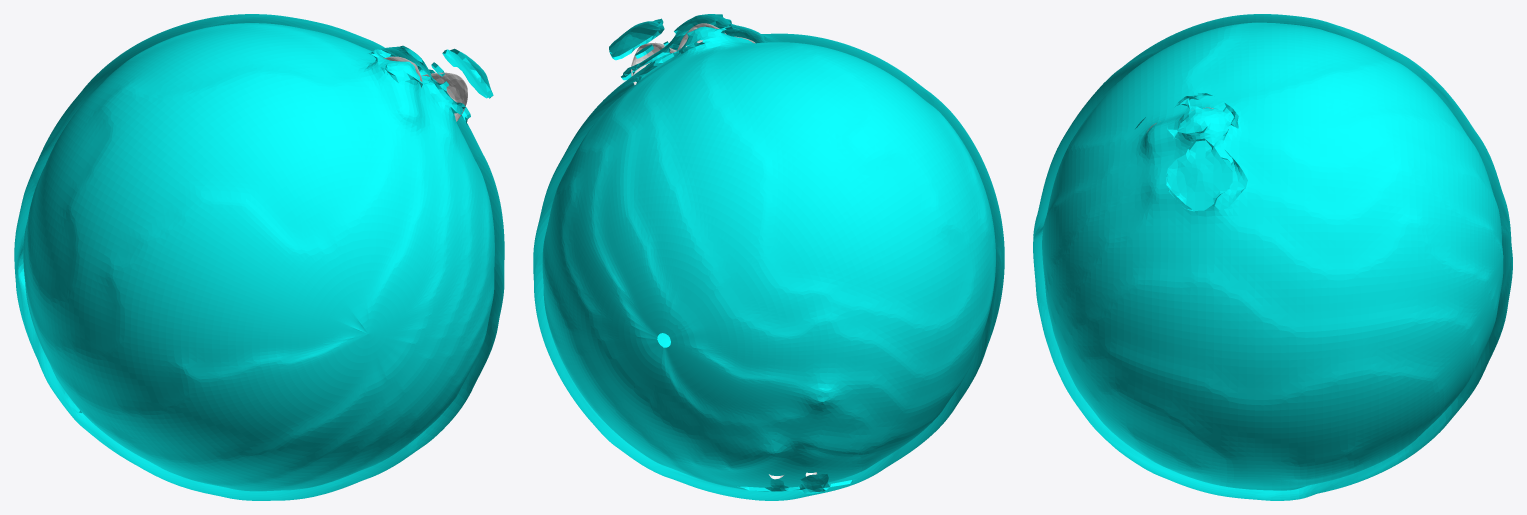
The picture shows the model from 3 angles, left to right: view 1: azimuth 30°, elevation 25°; view 2: azimuth 150°, elevation 25°; view 3: azimuth 270°, elevation 25°; orthographic projection. The views are drawn at different scales.
Visible parts, largest first — view 1: Renderer Node; view 2: Renderer Node; view 3: Renderer Node.
Boxes of the visible parts, x1,y1,x2,y2 form: Renderer Node: (14,14,504,500); Renderer Node: (533,14,1004,500); Renderer Node: (1033,14,1512,500).
Size of the model in its own units: 9.06e+13 by 9.11e+13 by 9.05e+13.
